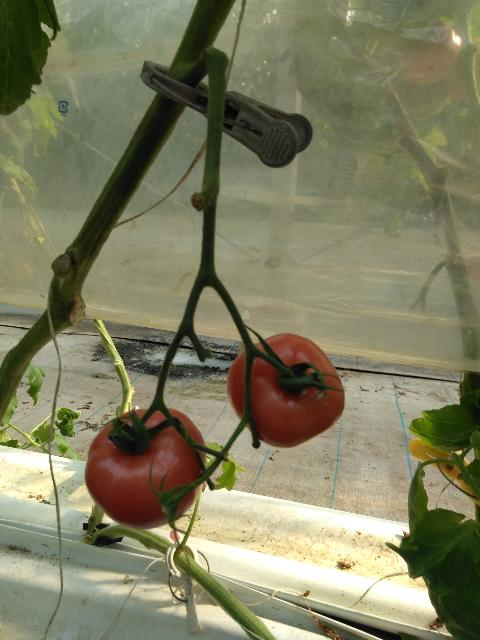b_fully_ripened: (84, 408, 206, 530), (226, 332, 346, 449)
